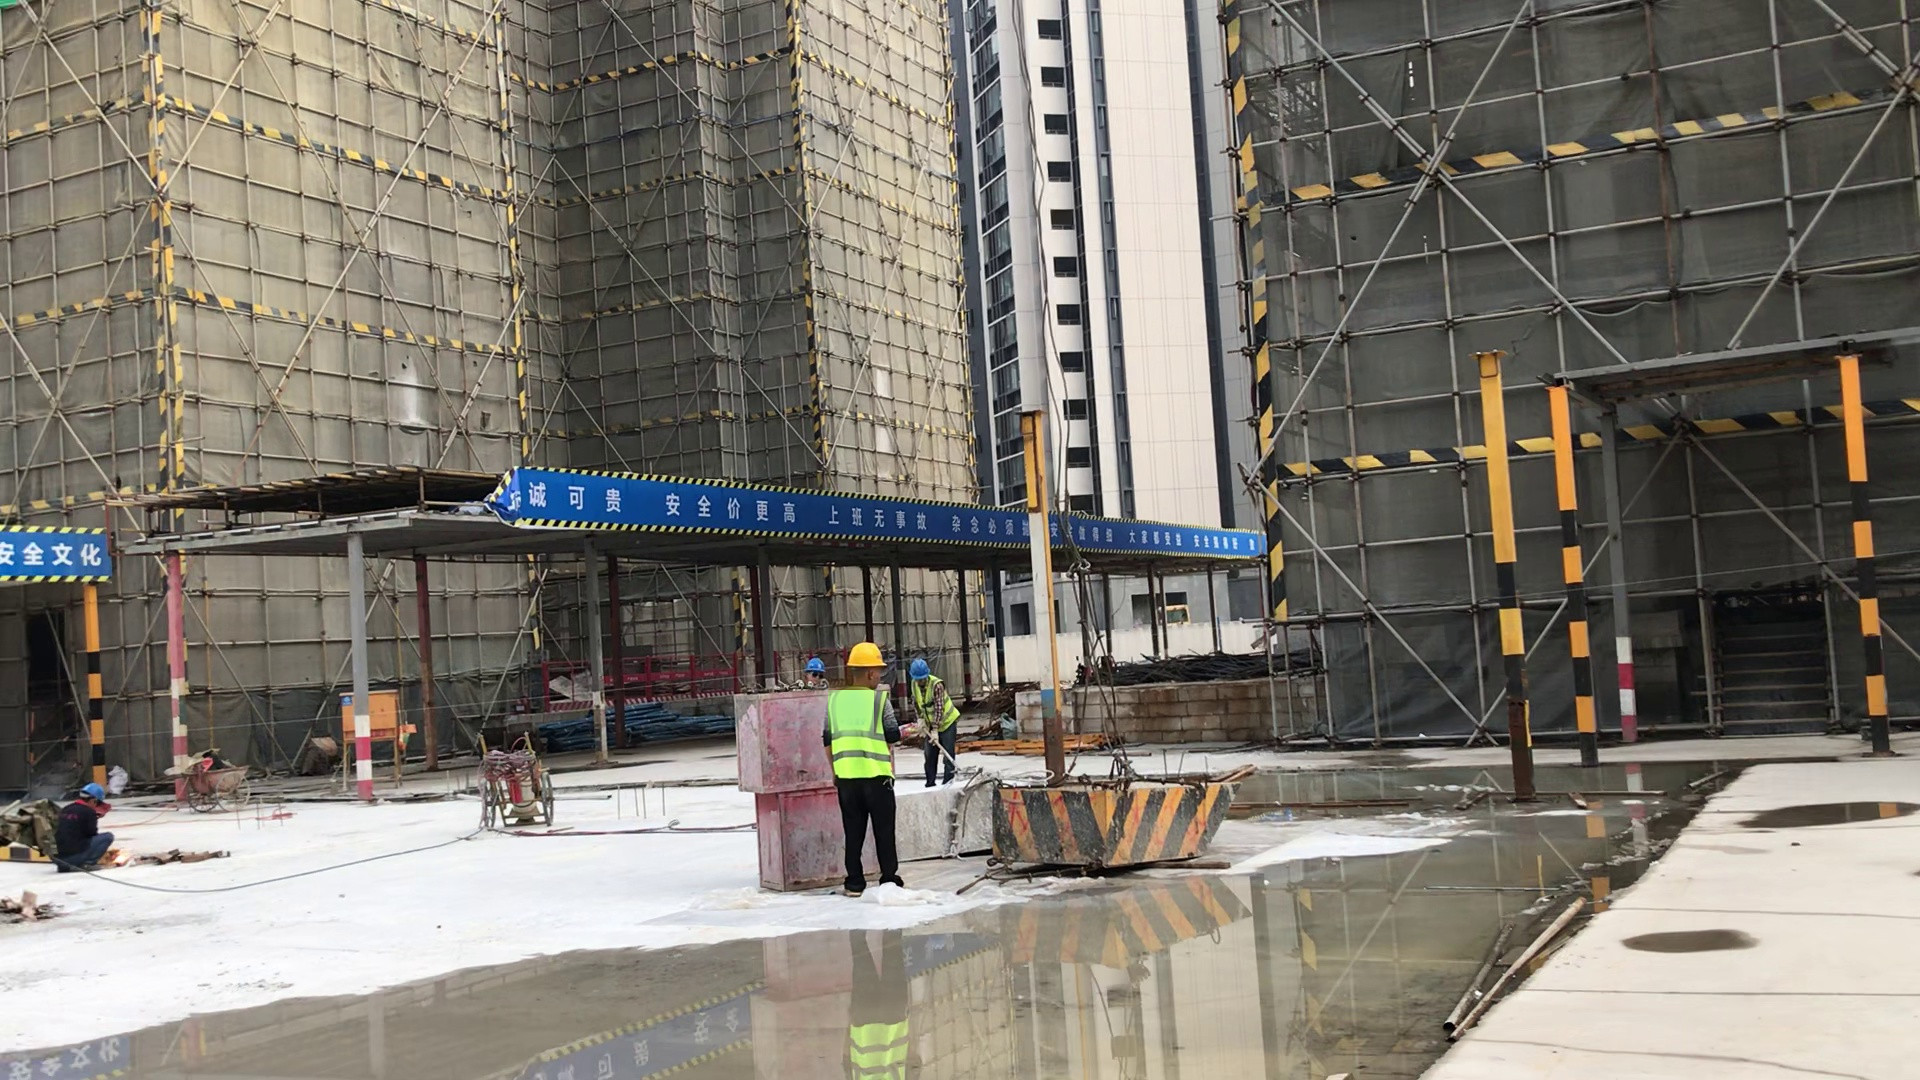ebox: (340, 688, 398, 741)
fence: (543, 649, 845, 712)
handcart: (469, 731, 554, 827)
helmet: (846, 642, 886, 667), (82, 781, 105, 803), (909, 658, 930, 679), (804, 657, 824, 673)
hopper: (992, 784, 1236, 870), (896, 777, 990, 858)
person: (823, 642, 902, 900), (911, 663, 960, 788), (54, 780, 113, 881)
slogan: (509, 473, 1262, 560), (1, 527, 106, 576)
vest: (827, 688, 893, 780), (912, 676, 959, 733)
